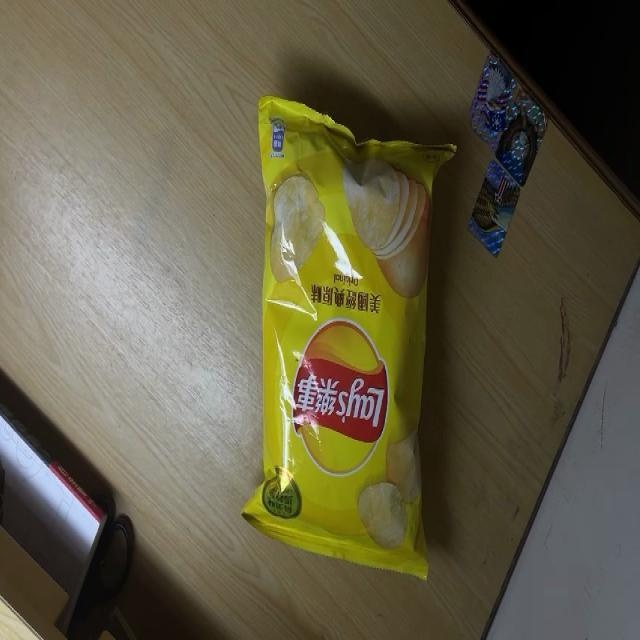Lay-s-original: (241, 93, 461, 580)
